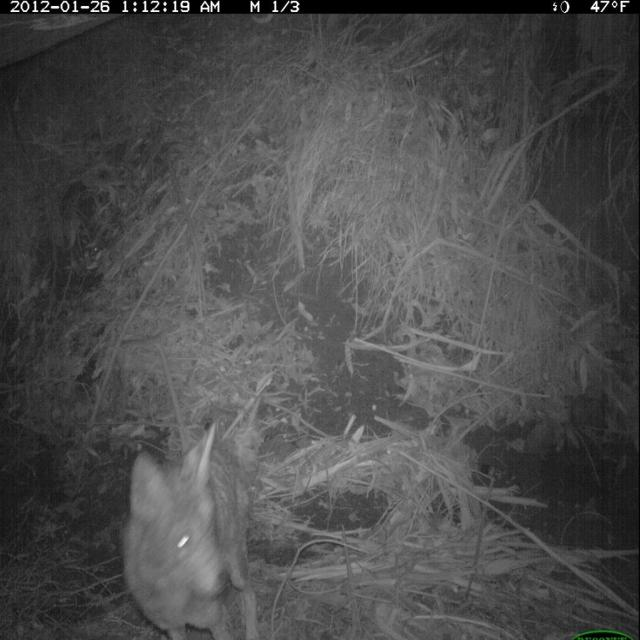coyote: (120, 415, 264, 640)
